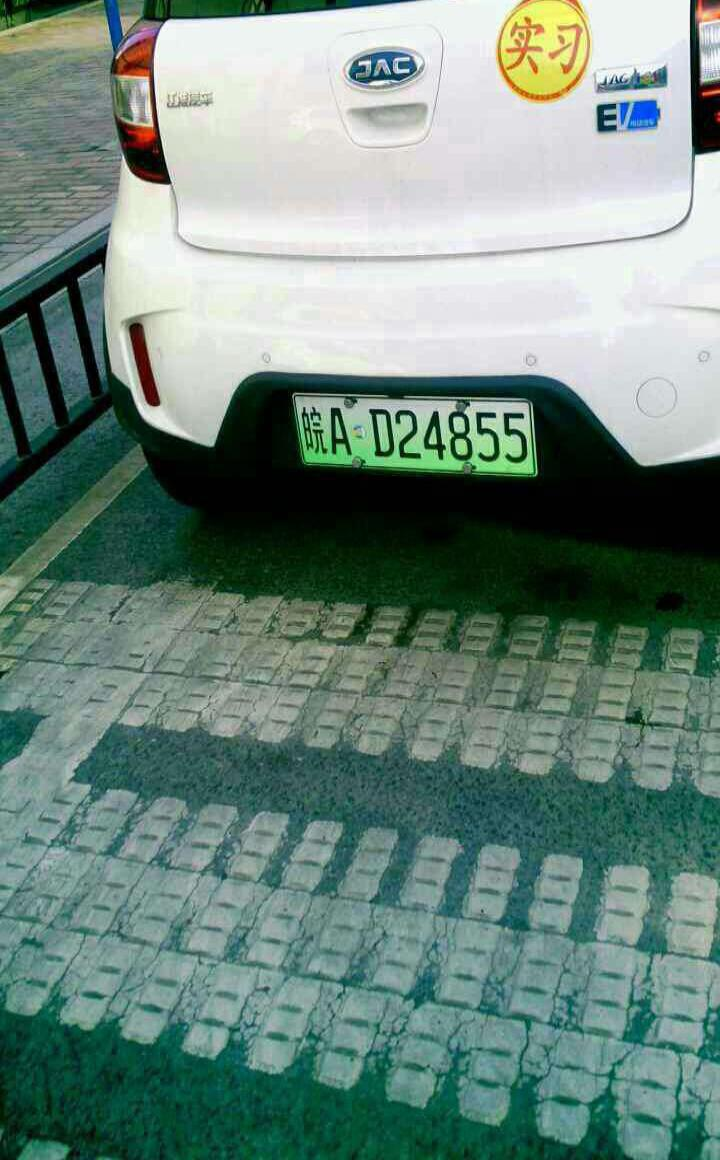car_id: (294, 396, 541, 478)
